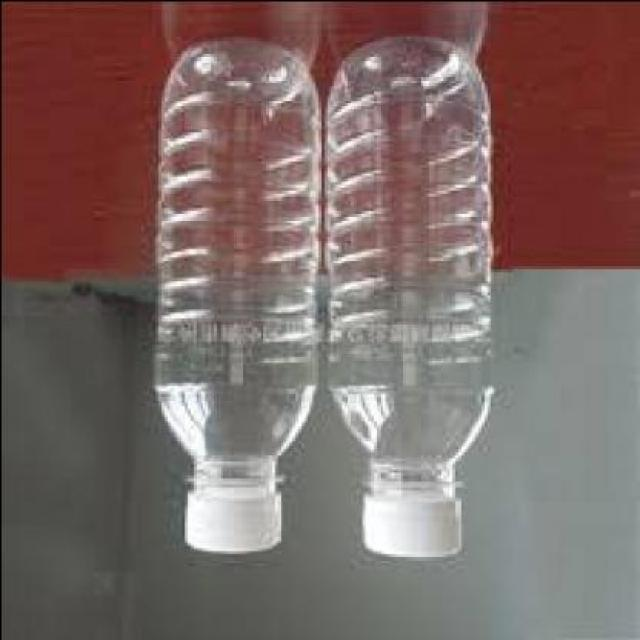PLASTIC: (317, 41, 486, 561), (148, 38, 314, 556), (358, 483, 456, 562), (180, 483, 277, 559)
